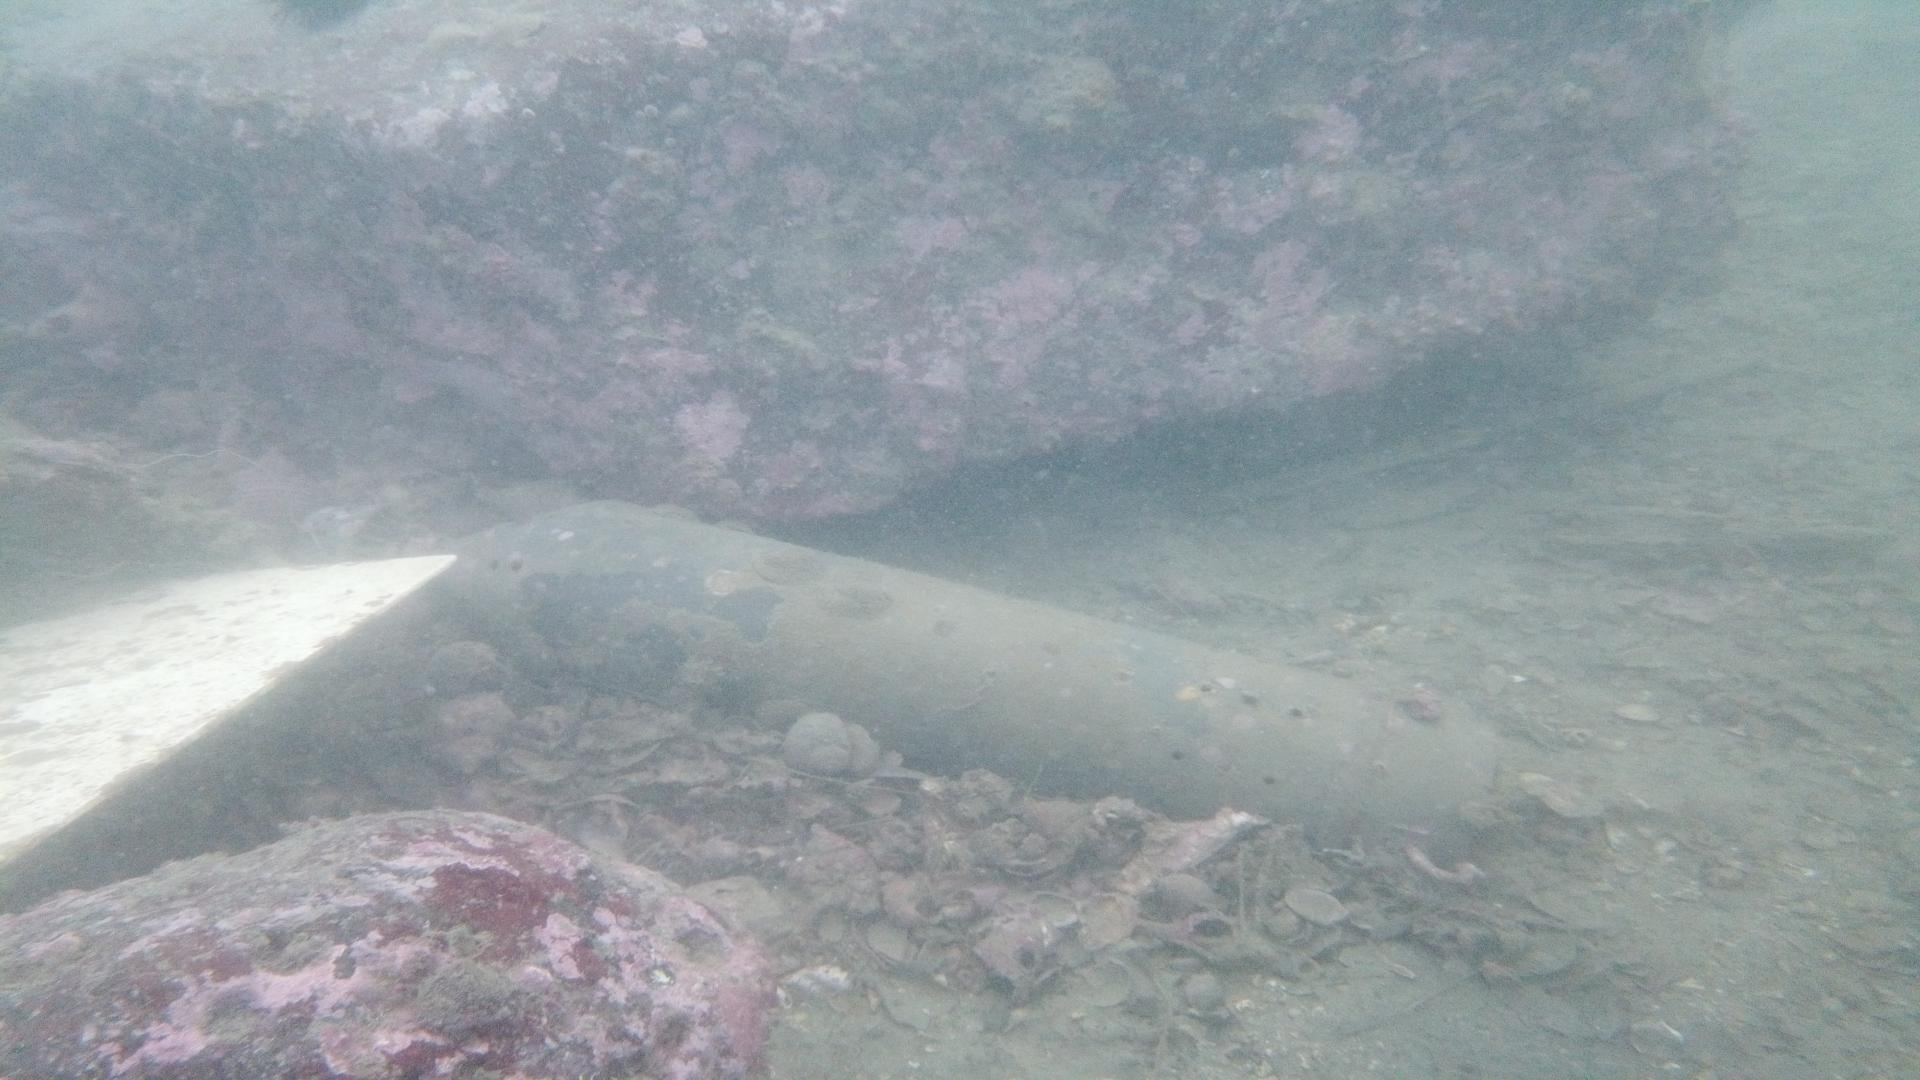eel fish trap: (286, 491, 1505, 874)
